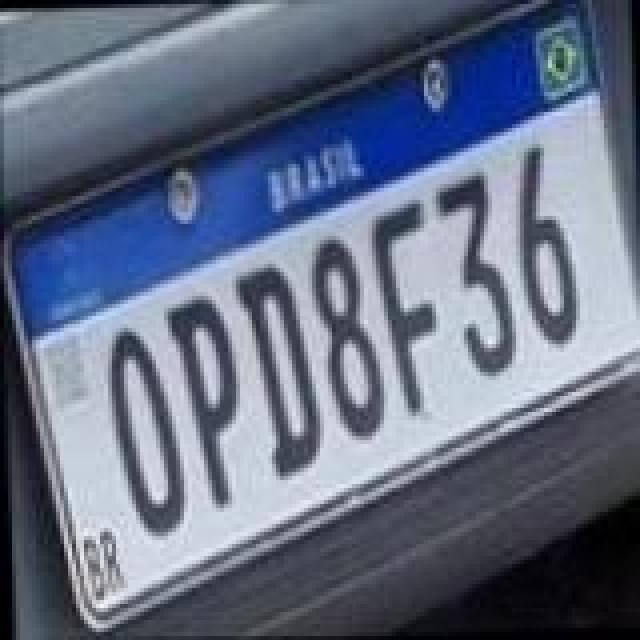3: (434, 174, 514, 378)
6: (512, 146, 576, 350)
8: (306, 236, 386, 440)
D: (234, 264, 322, 484)
F: (372, 198, 440, 418)
O: (108, 330, 188, 542)
P: (166, 292, 242, 508)
